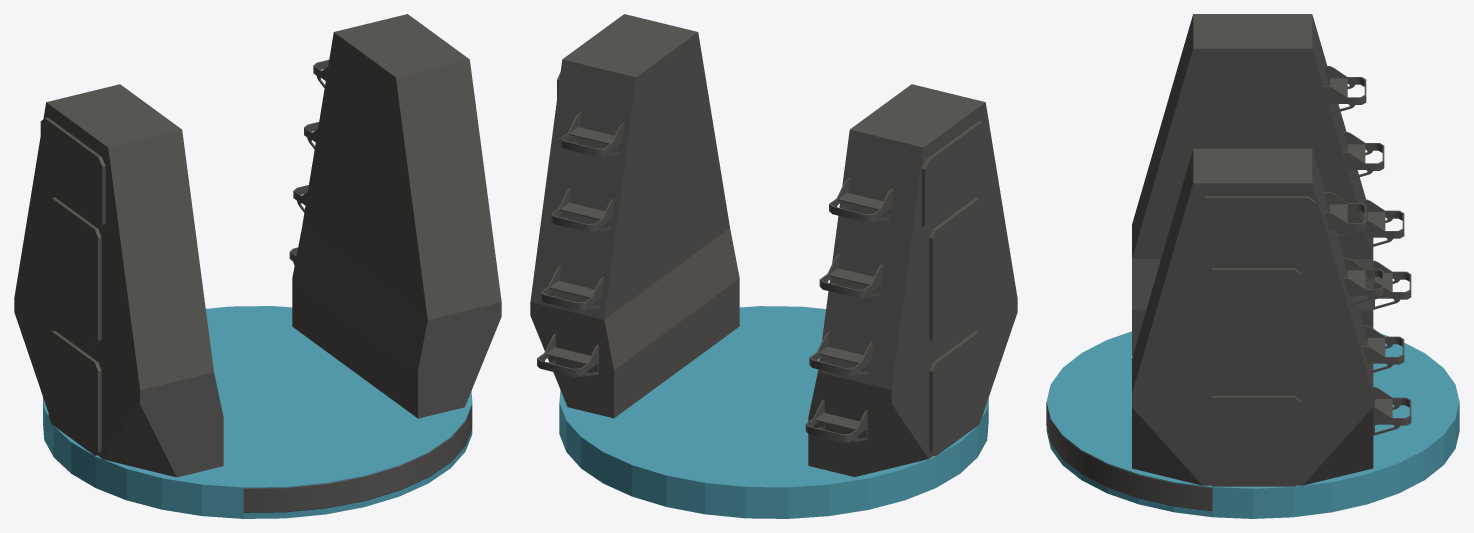
File: CIWS_Body_Dst.fbx
3 renders of one model, left to right at view 1: azimuth 30°, elevation 25°; view 2: azimuth 150°, elevation 25°; view 3: azimuth 270°, elevation 25°, orthographic. The views are drawn at different scales.
Visible parts, largest first — view 1: CIWS_Body_LOD0, UCL_Body1; view 2: CIWS_Body_LOD0, UCL_Body1; view 3: CIWS_Body_LOD0, UCL_Body1.
Part boxes in pixels (x1,y1,x2,y2): CIWS_Body_LOD0: [14, 14, 501, 512]; UCL_Body1: [43, 306, 472, 518]; CIWS_Body_LOD0: [530, 14, 1017, 476]; UCL_Body1: [559, 306, 988, 518]; CIWS_Body_LOD0: [1046, 14, 1411, 511]; UCL_Body1: [1046, 331, 1459, 518].
Size of what is drawn, in the model's own units: 205 by 183 by 205.
